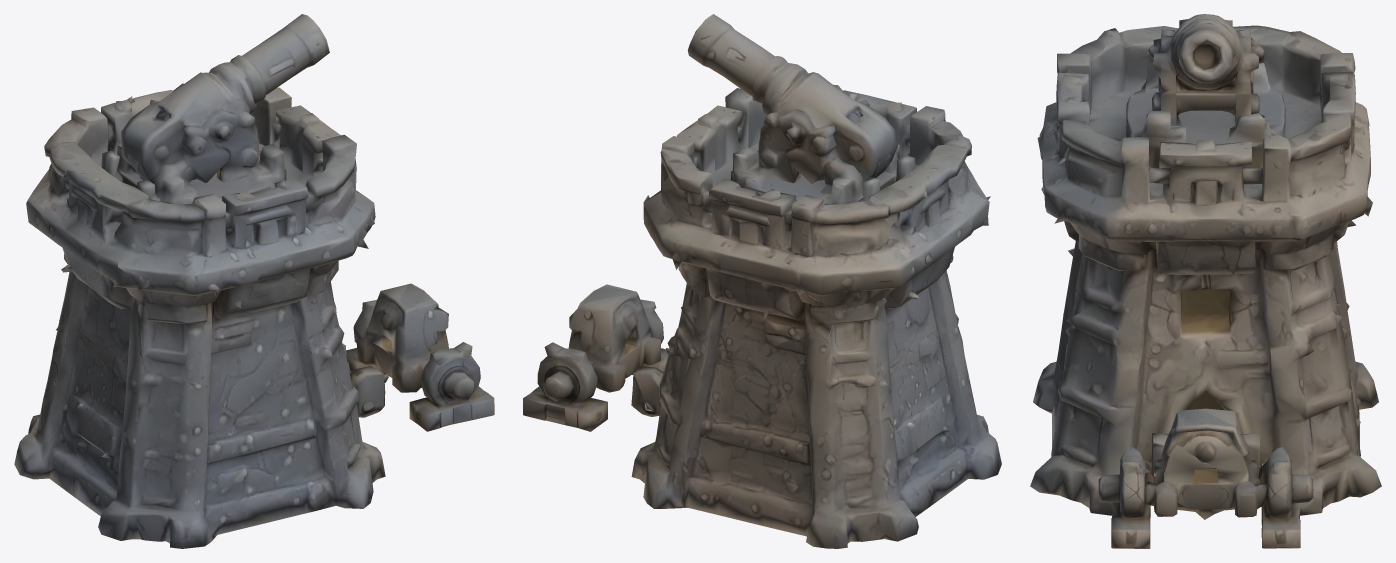
Rendered from bld_tower.glb.
3 views of the same model, side by side, from view 1: azimuth 30°, elevation 25°; view 2: azimuth 150°, elevation 25°; view 3: azimuth 270°, elevation 25° (orthographic). The views are drawn at different scales.
Parts seen in each view (by area): view 1: tripo_node_2d887bbd-6268-4921-8229-cf55ad3664ab; view 2: tripo_node_2d887bbd-6268-4921-8229-cf55ad3664ab; view 3: tripo_node_2d887bbd-6268-4921-8229-cf55ad3664ab.
Boxes of the visible parts, <box> form: tripo_node_2d887bbd-6268-4921-8229-cf55ad3664ab: <box>14,14,494,548</box>; tripo_node_2d887bbd-6268-4921-8229-cf55ad3664ab: <box>523,14,1001,548</box>; tripo_node_2d887bbd-6268-4921-8229-cf55ad3664ab: <box>1030,14,1381,548</box>.
Bounding box in the file's own units: 0.957 × 1 × 0.6804.
1 material, 1 textured.
